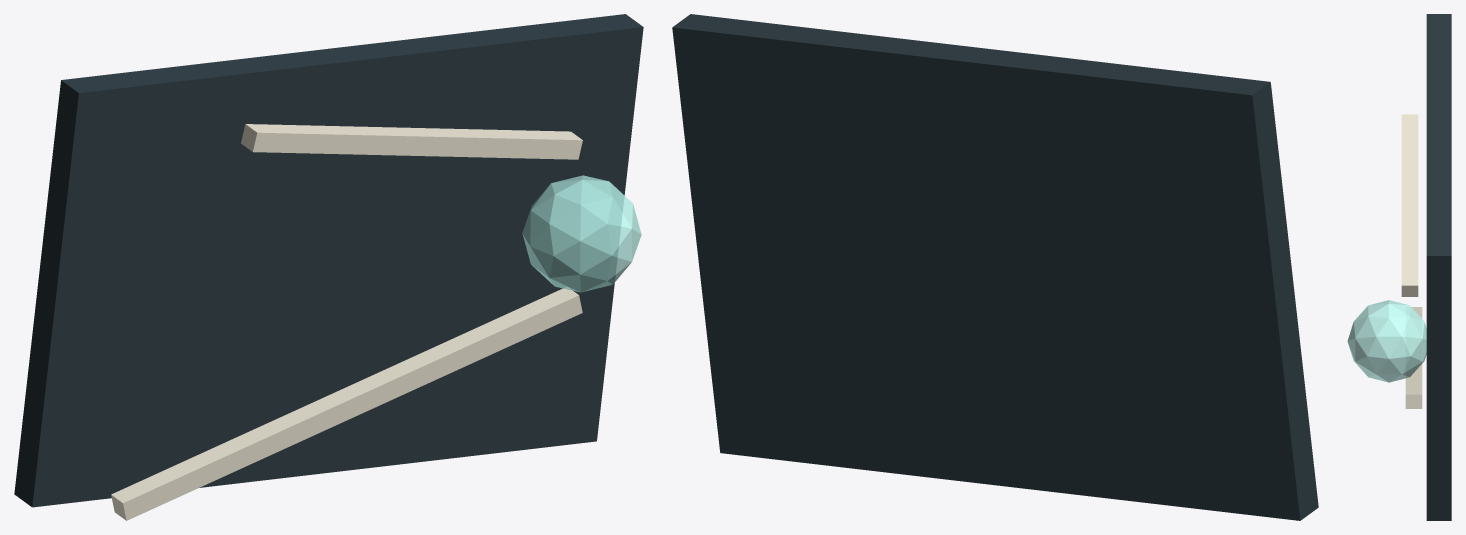
Rendered from 02_world_prop_polish.glb.
3 renders of one model, left to right at view 1: azimuth 30°, elevation 25°; view 2: azimuth 150°, elevation 25°; view 3: azimuth 270°, elevation 25°, orthographic. The views are drawn at different scales.
Parts seen in each view (by area): view 1: object_overlay_plate, edge_wear_a, glow_socket, edge_wear_b; view 2: object_overlay_plate; view 3: object_overlay_plate, glow_socket, edge_wear_b, edge_wear_a.
Boxes of the visible parts, x1,y1,x2,y2 form: object_overlay_plate: (14,14,643,507); edge_wear_a: (111,287,582,520); glow_socket: (522,175,641,292); edge_wear_b: (241,124,582,159); object_overlay_plate: (672,14,1318,520); object_overlay_plate: (1426,14,1451,520); glow_socket: (1347,300,1426,382); edge_wear_b: (1401,114,1418,296); edge_wear_a: (1405,307,1422,408).
Bounding box in the file's own units: 1.18 × 0.877 × 0.25.
